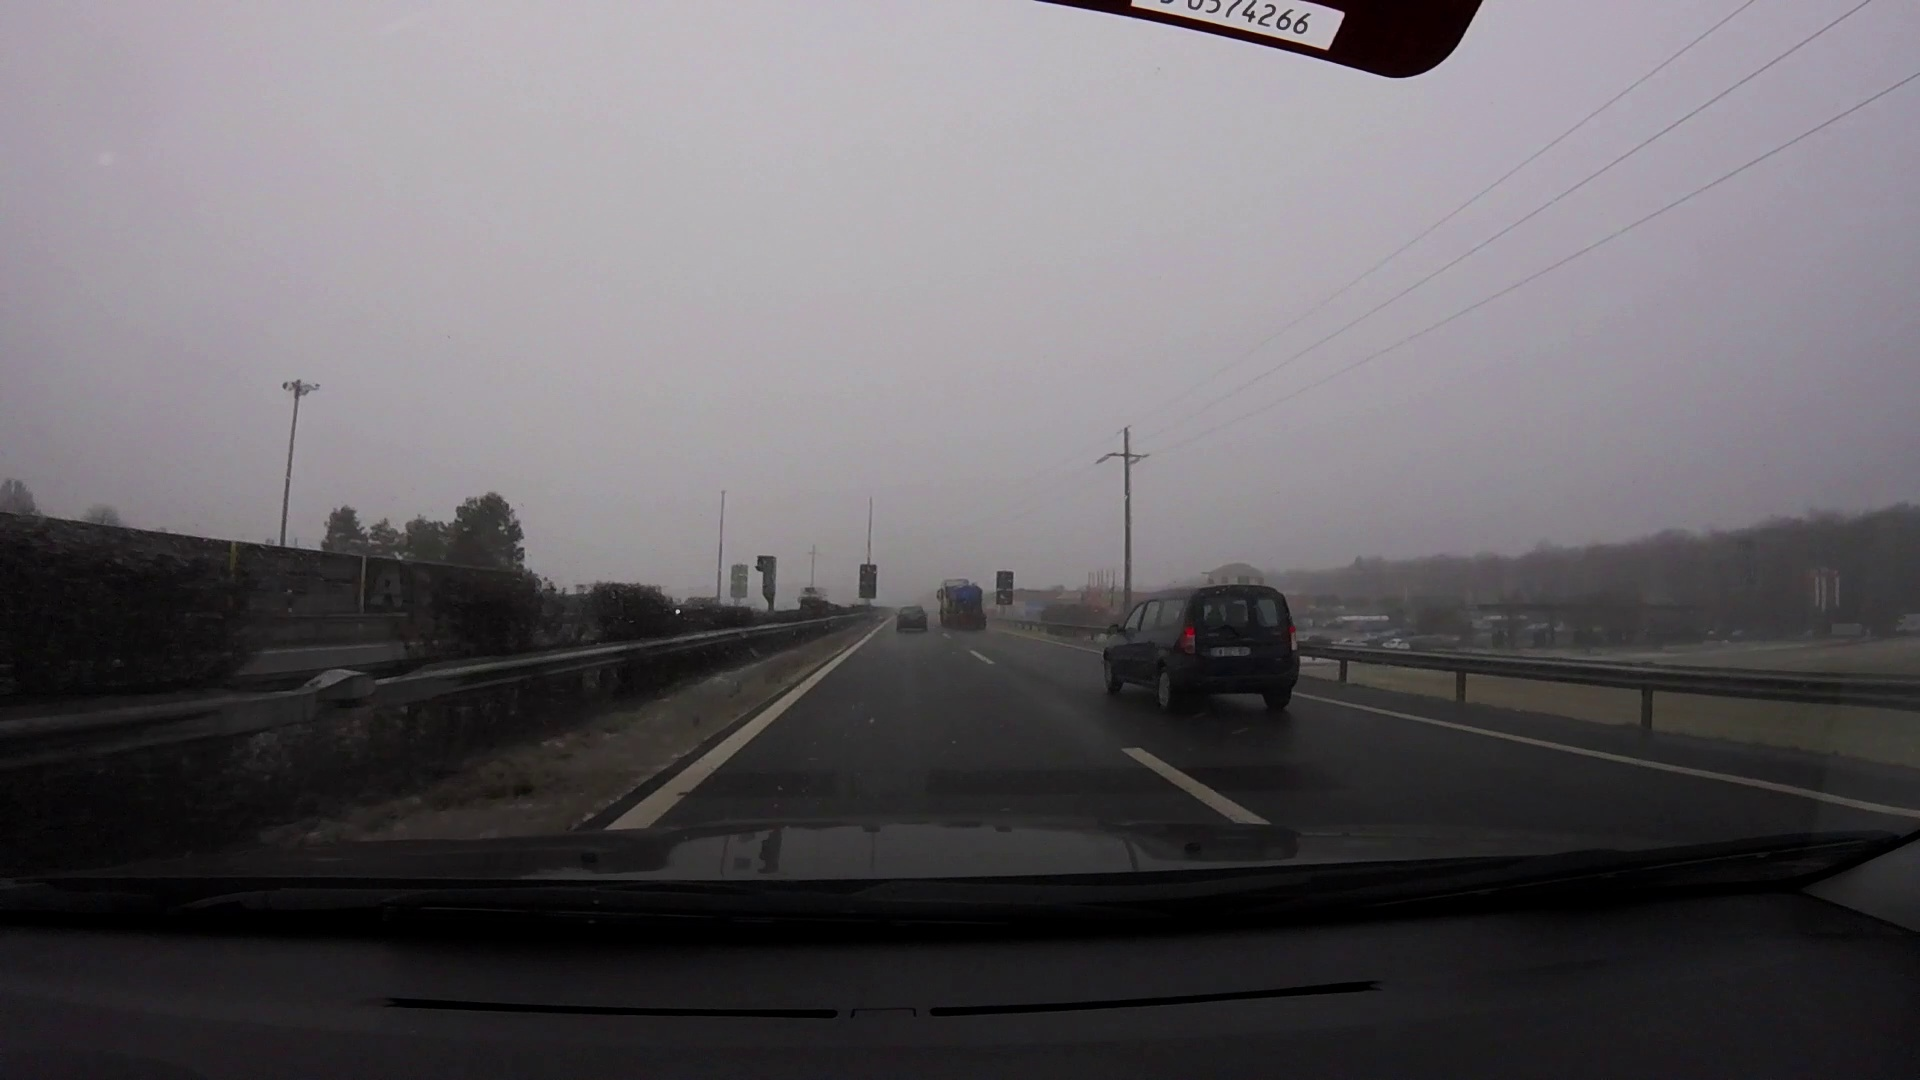radar: (754, 555, 781, 607)
